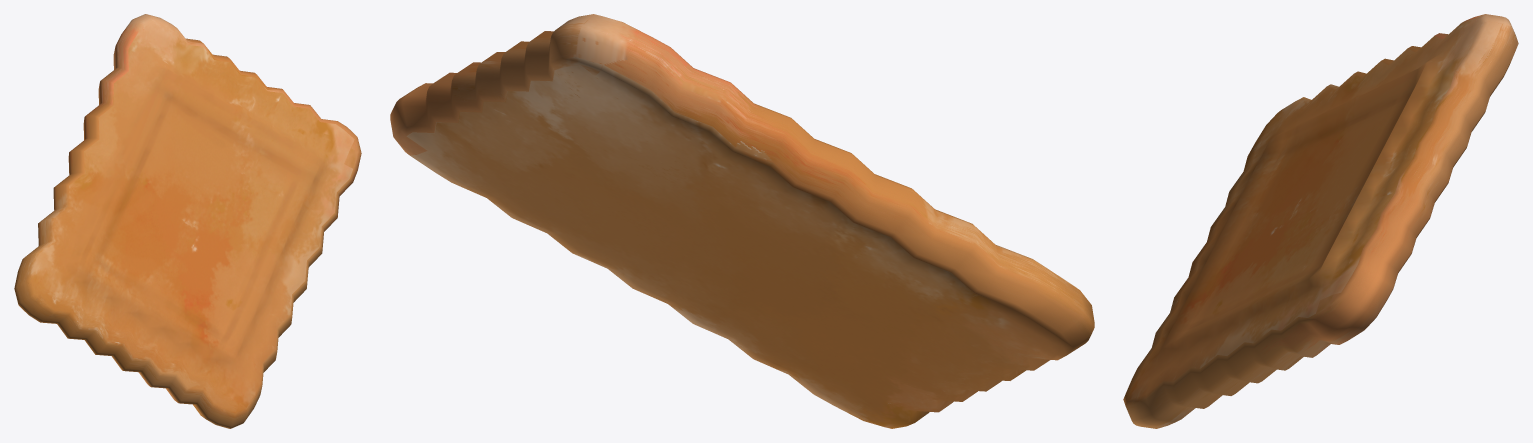
The model's file is 04-biscuit-model.glb.
The picture shows the model from 3 angles, left to right: view 1: azimuth 30°, elevation 25°; view 2: azimuth 150°, elevation 25°; view 3: azimuth 270°, elevation 25°; orthographic projection. The views are drawn at different scales.
Visible parts, largest first — view 1: 04-biscuit-model; view 2: 04-biscuit-model; view 3: 04-biscuit-model.
Part boxes in pixels (x1,y1,x2,y2): 04-biscuit-model: [14, 14, 361, 428]; 04-biscuit-model: [390, 14, 1094, 428]; 04-biscuit-model: [1123, 14, 1518, 428].
Bounding box in the file's own units: 2.74 × 2.21 × 1.83.
Materials: 1 (1 with a texture image).
